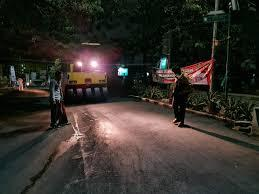Pothole: (22, 109, 87, 194)
